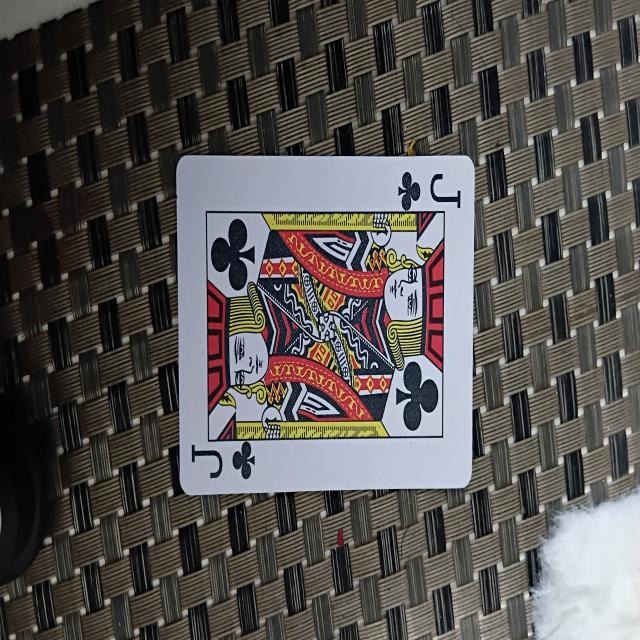JC: (176, 154, 474, 494)
